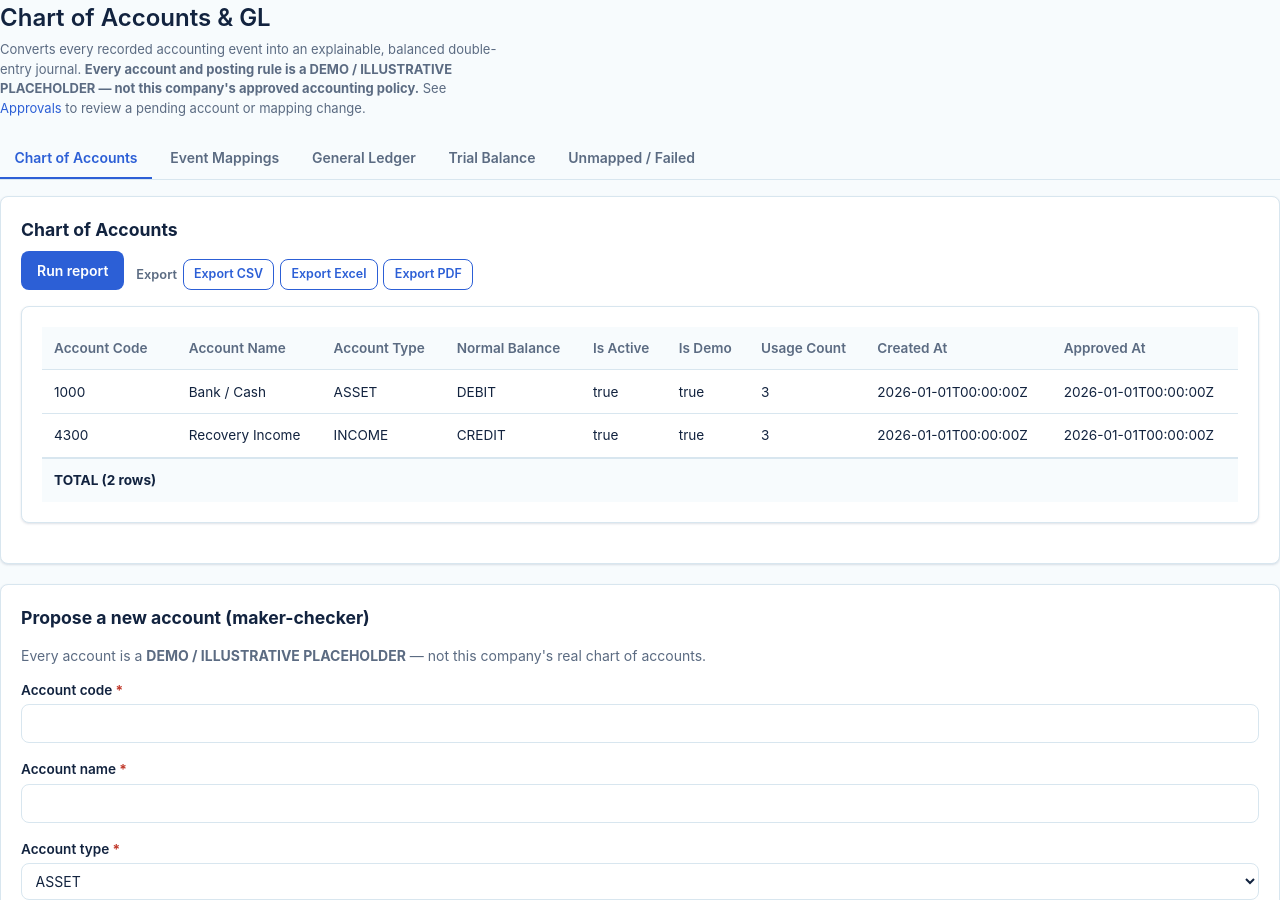
Test: Chart of Accounts & GL — Unmapped/Failed tab › lists an unmapped event with its reason
Click the tab "Unmapped / Failed". click: (632, 158)
box: [554, 138, 709, 179]
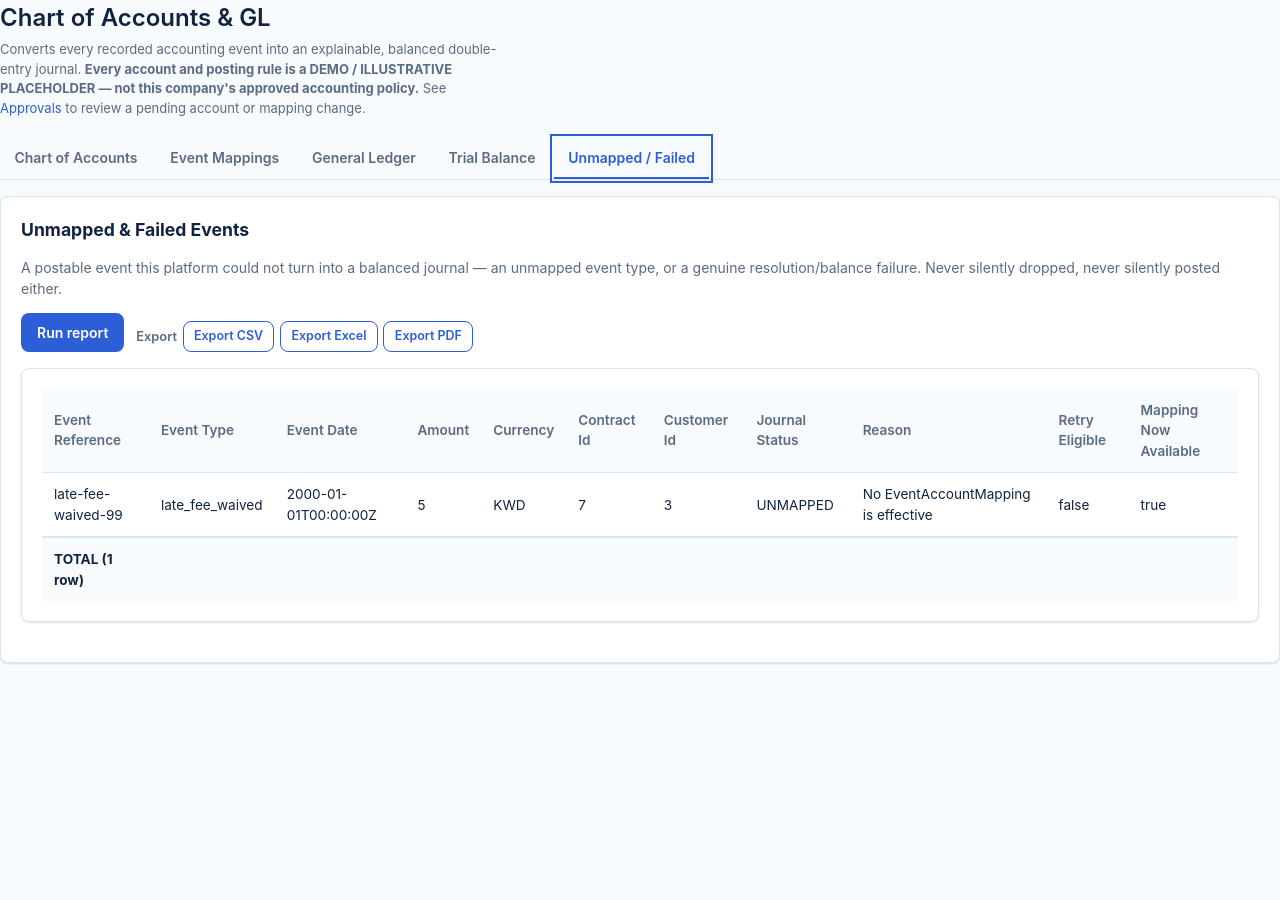
Now the element with test id "coa-tab-unmapped-failed" is shown, box [0, 196, 1279, 663]
Now the text "late-fee-waived-99" is shown, box [42, 473, 149, 537]
Now the text "UNMAPPED" is shown, box [744, 473, 851, 537]
